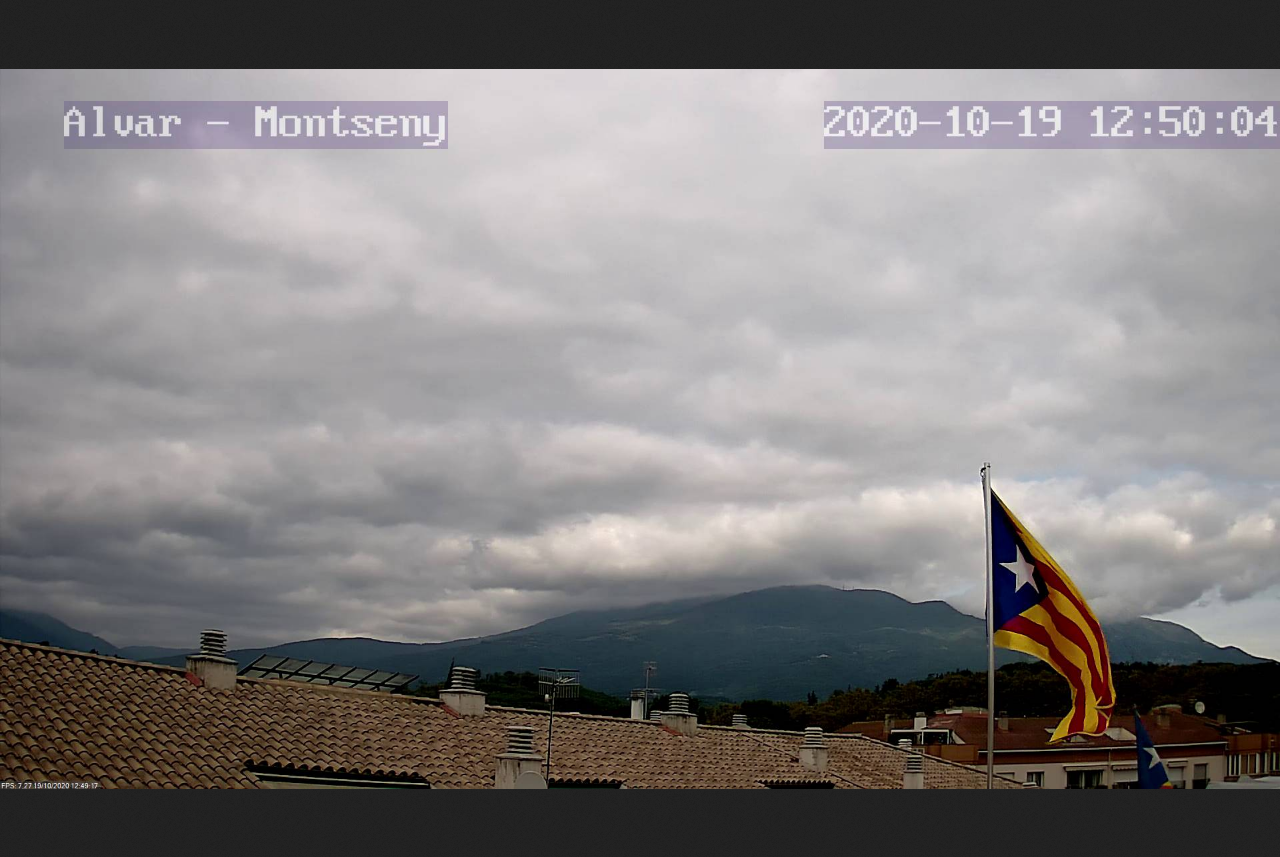maybe: (962, 454, 1136, 750)
